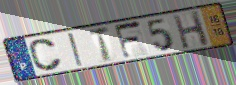5: (146, 17, 176, 53)
C: (27, 37, 64, 73)
F: (112, 19, 144, 61)
H: (171, 9, 212, 51)
I: (66, 31, 86, 68)
T: (87, 24, 113, 64)
